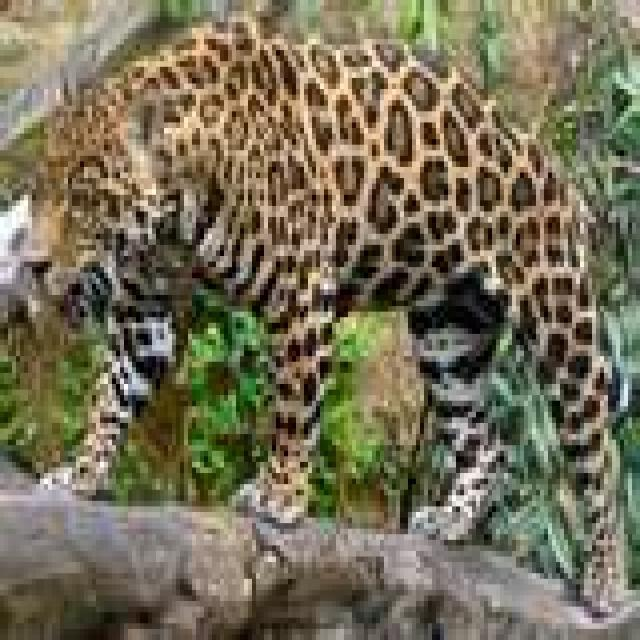Leopard: (0, 5, 576, 629)
